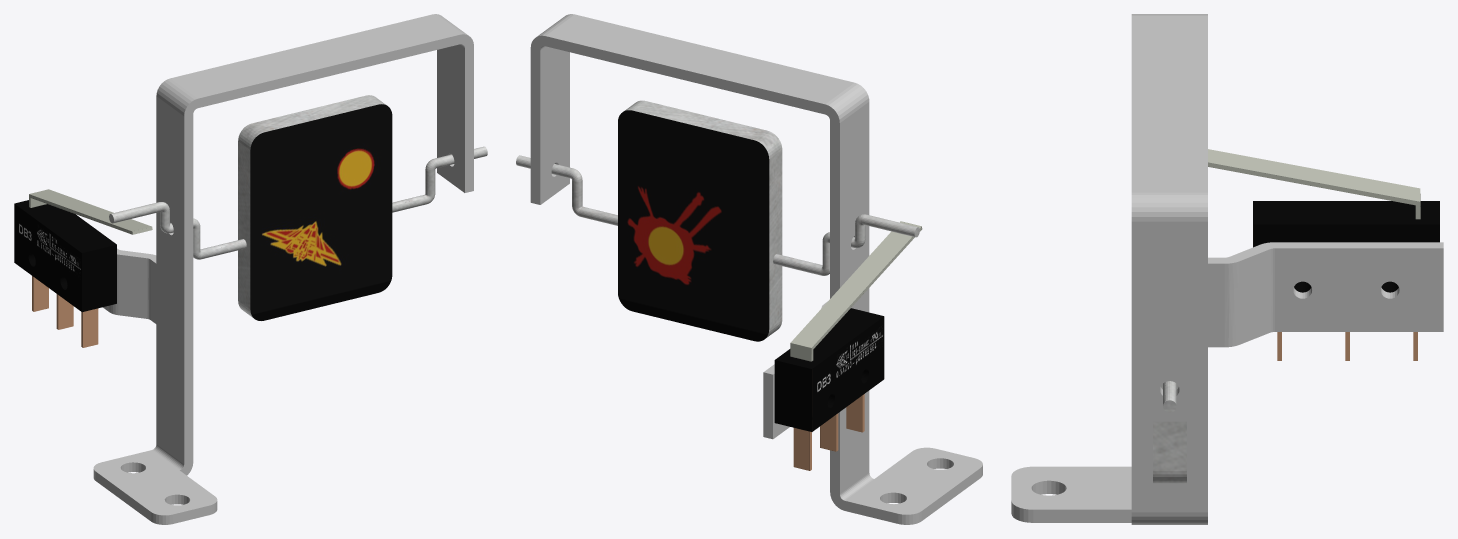
File: spinner.dae
3 views of the same model, side by side, from view 1: azimuth 30°, elevation 25°; view 2: azimuth 150°, elevation 25°; view 3: azimuth 270°, elevation 25° (orthographic). The views are drawn at different scales.
Parts seen in each view (by area): view 1: bracket, target, switch, bar; view 2: target, bracket, switch, bar; view 3: bracket, switch, bar, target.
Part boxes in pixels (x1,y1,x2,y2): bracket: (93,14,473,524); target: (109,95,487,320); switch: (14,200,116,347); bar: (29,189,152,234); target: (516,100,919,341); bracket: (530,14,982,524); switch: (774,308,884,470); bar: (790,221,922,361); bracket: (1011,14,1443,524); switch: (1253,201,1439,360); bar: (1208,149,1420,219); target: (1153,381,1186,483).
Bounding box in the file's own units: 6.39 × 5.99 × 4.52.
